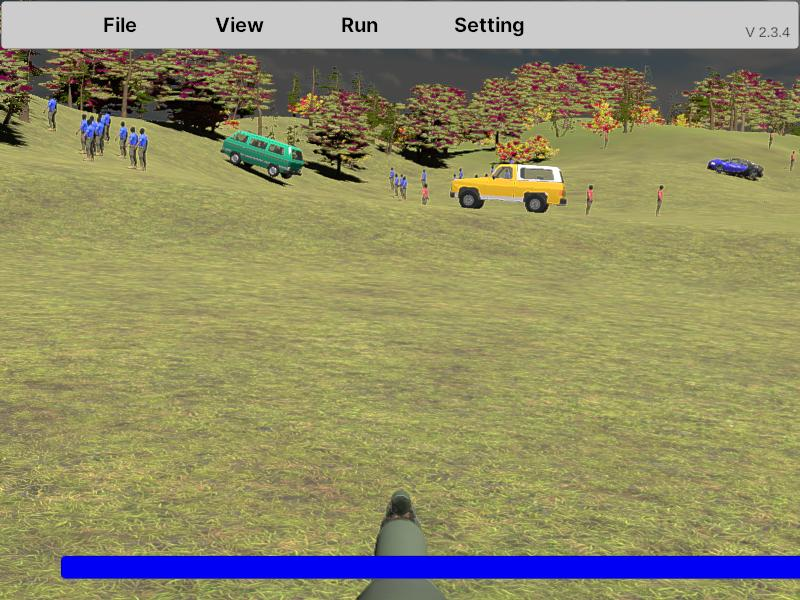car: (450, 163, 566, 214), (221, 131, 303, 180), (706, 156, 764, 180)
